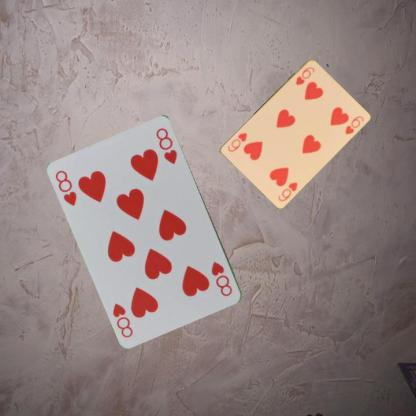6h: (292, 64, 315, 86), (276, 180, 298, 202)
8h: (53, 168, 79, 208), (209, 259, 234, 298)
